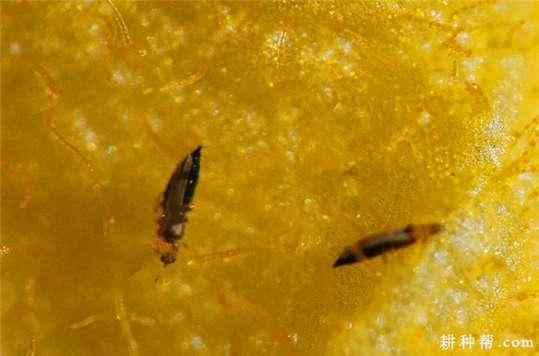tiny_pests: (311, 192, 472, 290), (131, 122, 228, 280)
